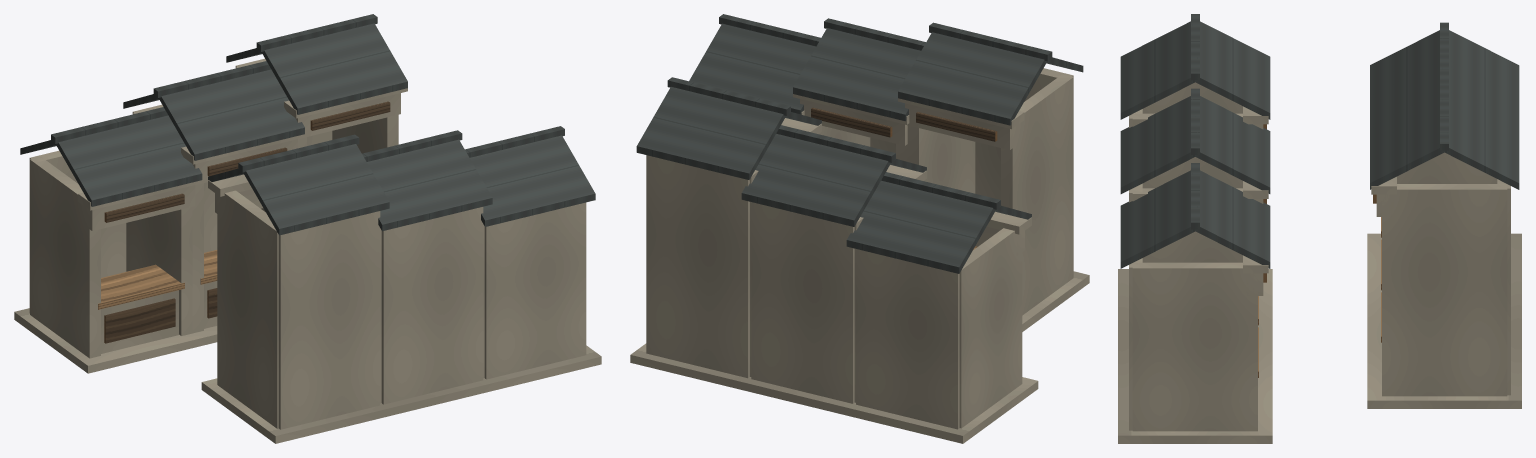
The model's file is antananarivo.glb.
3 views of the same model, side by side, from view 1: azimuth 30°, elevation 25°; view 2: azimuth 150°, elevation 25°; view 3: azimuth 270°, elevation 25° (orthographic). The views are drawn at different scales.
Parts seen in each view (by area): view 1: antananarivo; view 2: antananarivo; view 3: antananarivo.
Part boxes in pixels (x1,y1,x2,y2): antananarivo: (14,14,601,443); antananarivo: (630,14,1089,443); antananarivo: (1118,14,1521,443).
Bounding box in the file's own units: 4.1 × 2.5 × 3.47.
Materials: 1 (1 with a texture image).
